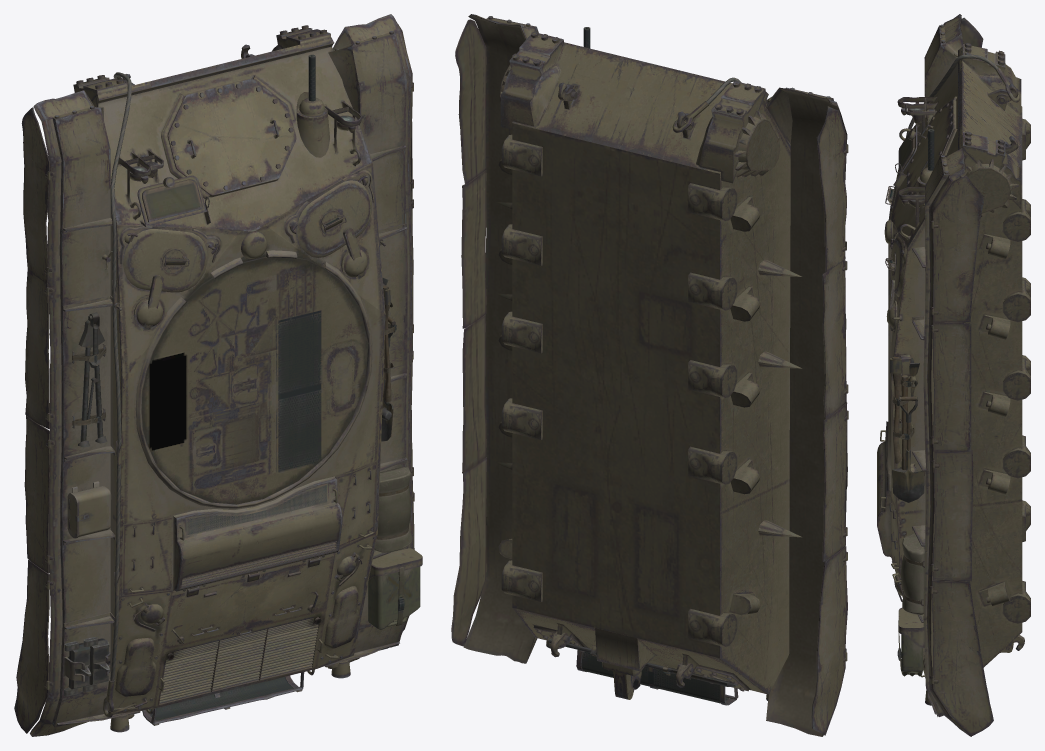
Rendered from Hull.glb.
3 renders of one model, left to right at view 1: azimuth 30°, elevation 25°; view 2: azimuth 150°, elevation 25°; view 3: azimuth 270°, elevation 25°, orthographic. The views are drawn at different scales.
Parts seen in each view (by area): view 1: set_0_group_0; view 2: set_0_group_0; view 3: set_0_group_0.
Boxes of the visible parts, x1,y1,x2,y2 form: set_0_group_0: (14,14,422,736); set_0_group_0: (451,14,848,736); set_0_group_0: (877,14,1030,736).
Bounding box in the file's own units: 3.02 × 5.01 × 1.22.
1 material, 1 textured.
